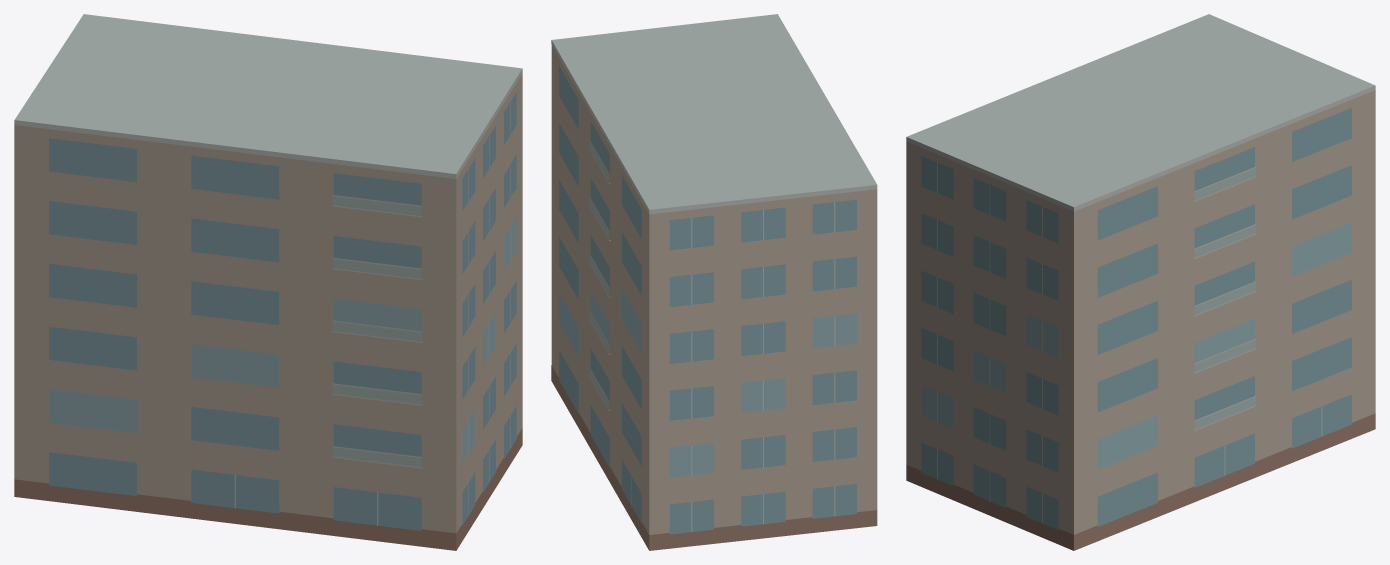
Rendered from survey-upis-32772561.glb.
3 renders of one model, left to right at view 1: azimuth 30°, elevation 25°; view 2: azimuth 150°, elevation 25°; view 3: azimuth 270°, elevation 25°, orthographic. The views are drawn at different scales.
Parts seen in each view (by area): view 1: survey-upis-32772561.tmp; view 2: survey-upis-32772561.tmp; view 3: survey-upis-32772561.tmp.
Part boxes in pixels (x1,y1,x2,y2): survey-upis-32772561.tmp: (14, 14, 522, 550); survey-upis-32772561.tmp: (551, 14, 877, 550); survey-upis-32772561.tmp: (906, 14, 1375, 550).
Bounding box in the file's own units: 22.67 × 18.8 × 23.27.
